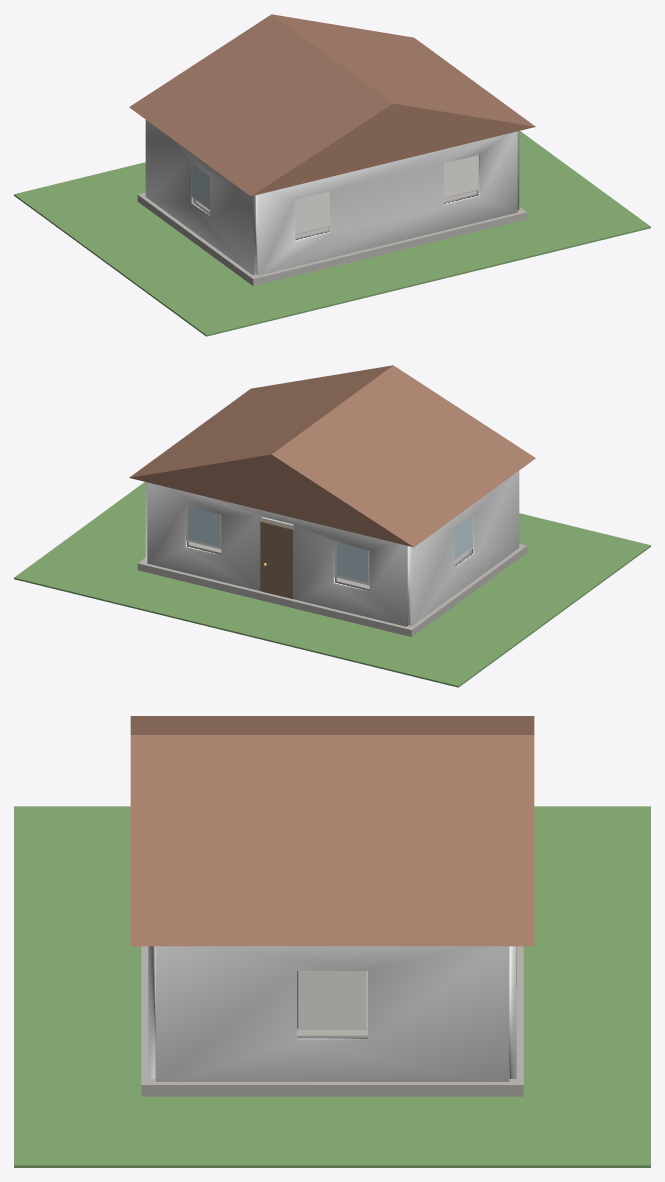
File: house_cape_cod.glb
3 views of the same model, one above another, from view 1: azimuth 30°, elevation 25°; view 2: azimuth 150°, elevation 25°; view 3: azimuth 270°, elevation 25° (orthographic). The views are drawn at different scales.
Visible parts, largest first — view 1: roof, lawn, back_gf, left_gf, foundation, frame (×3), glass; view 2: roof, lawn, front_gf, left_gf, foundation, frame (×3), glass (×3), panel; view 3: lawn, roof, right_gf, foundation, frame, front_gf, back_gf.
Boxes of the visible parts, x1,y1,x2,y2 form: roof: (129,14,535,196); lawn: (14,131,650,336); back_gf: (256,131,517,275); left_gf: (145,120,256,274); foundation: (137,193,527,285); frame (×3): (191,155,478,234); glass: (192,164,209,208); roof: (129,365,535,547); lawn: (14,482,650,687); front_gf: (147,482,408,626); left_gf: (408,471,519,625); foundation: (137,544,527,636); frame (×3): (186,506,473,585); glass (×3): (188,507,472,582); panel: (260,521,293,598); lawn: (14,806,650,1167); roof: (130,716,534,946); right_gf: (155,946,509,1081); foundation: (141,946,523,1096); frame: (297,971,367,1029); front_gf: (509,946,516,1078); back_gf: (148,946,155,1078).
Bounding box in the file's own units: 12 × 3.95 × 9.
